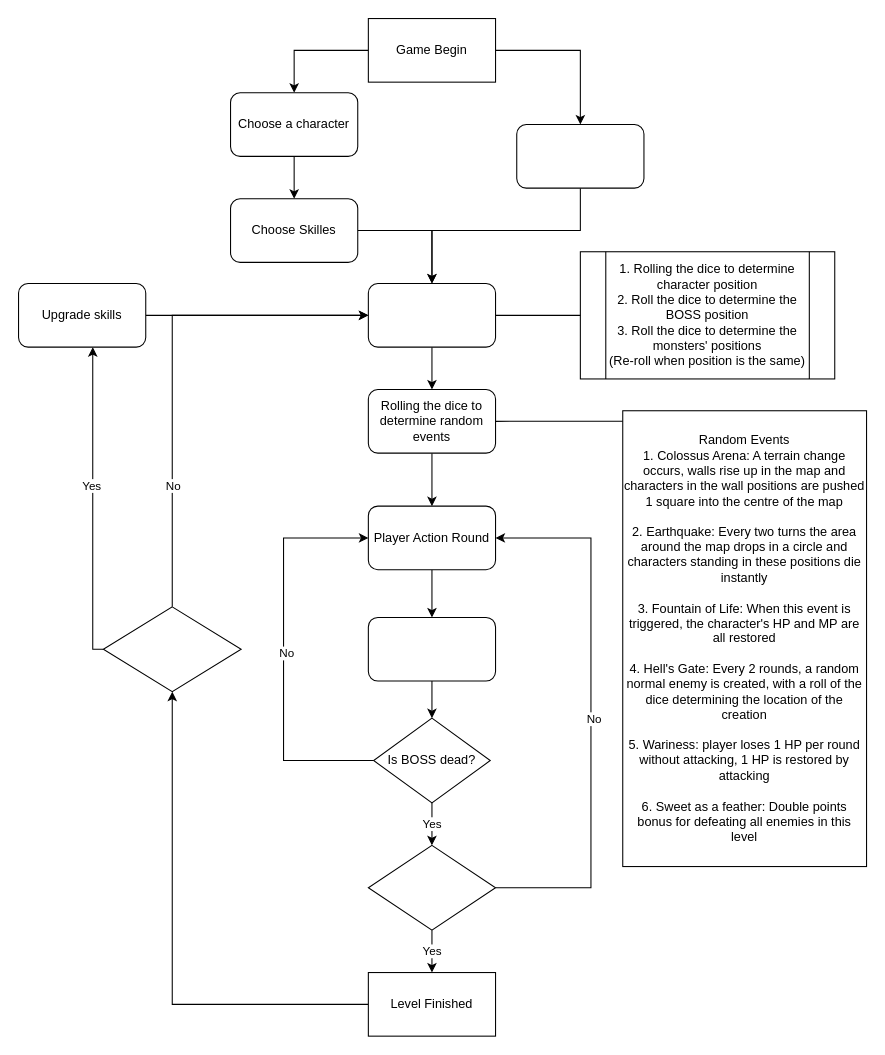
The diagram is 885 pixels wide and 1055 high, and some of its shapes have lost their labels. The shapes that lost their labels are listed below. From the top down, each one's centre as x and y in pixels, then its label:
(x=580, y=155): Choose a monster set
(x=431, y=314): Set up the board according to the monster set
(x=171, y=649): Are there enough points to upgrade?
(x=431, y=648): Enemy Action Round
(x=431, y=887): Enter the portal?
